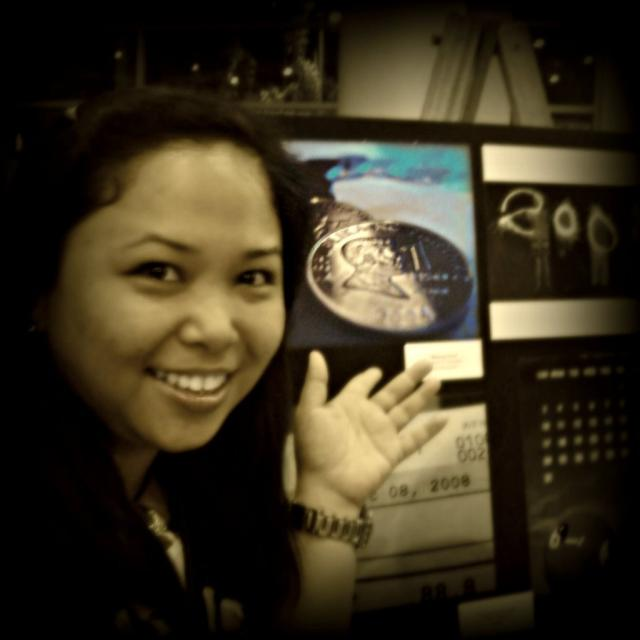Coin: (303, 213, 472, 339)
